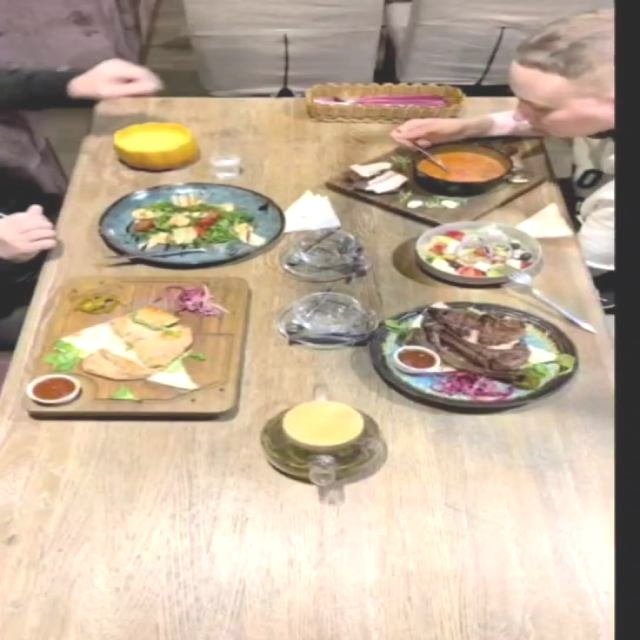meat: (25, 278, 253, 414), (367, 301, 580, 408)
salad: (96, 182, 281, 266), (413, 220, 545, 285)
soup: (323, 134, 549, 226), (112, 121, 199, 170)
tea: (250, 377, 399, 515)
